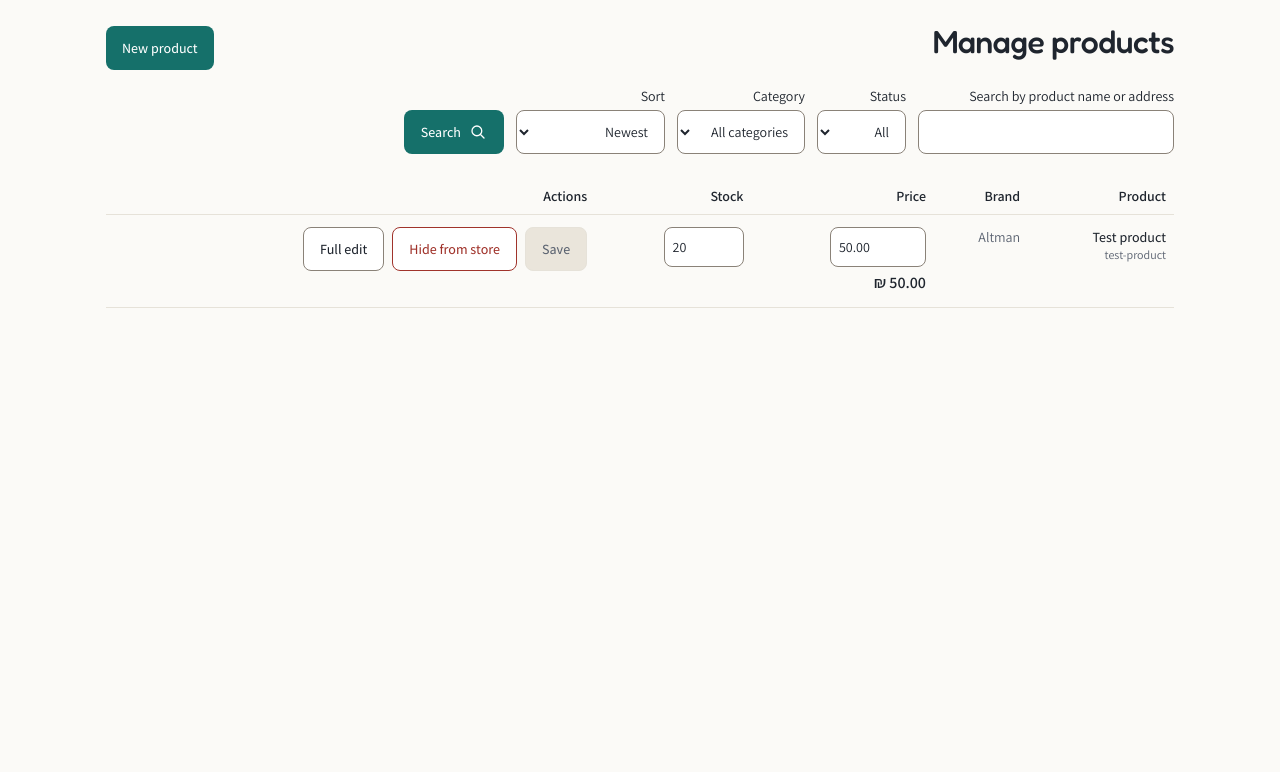
Test: 🔴 ISSUE-153 — the full editor › opens from its disclosure, PATCHes ONLY the changed description, and closes state survives the save
Expected: the text "Test product" is shown, [1092,228,1166,246]
Click the button "Full edit".
click(344, 249)  # box [303,227,384,271]
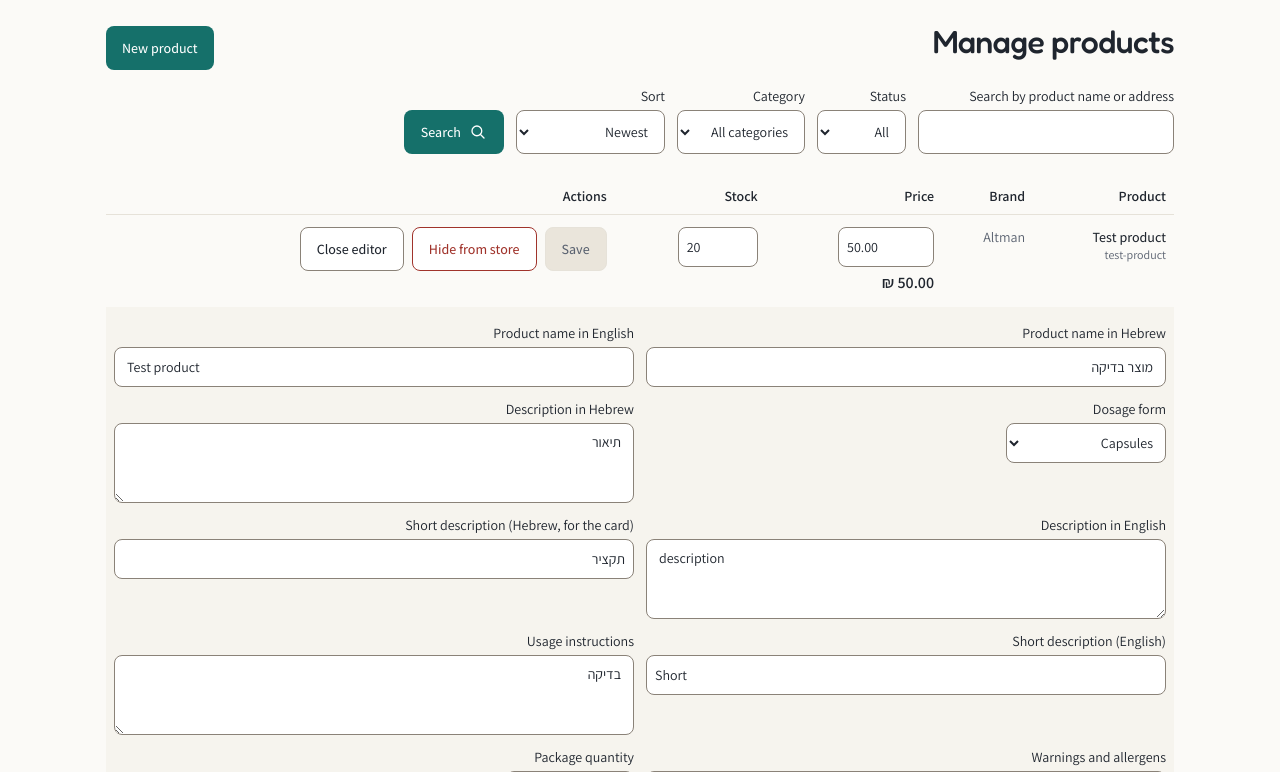
Now the button named "Full edit" is expanded, box [300,227,404,271]
Replace the text in the text box labelled "Description in Hebrew" with "תיאור חדש" at (374, 463), box [114,423,634,503]
(page scrolled)
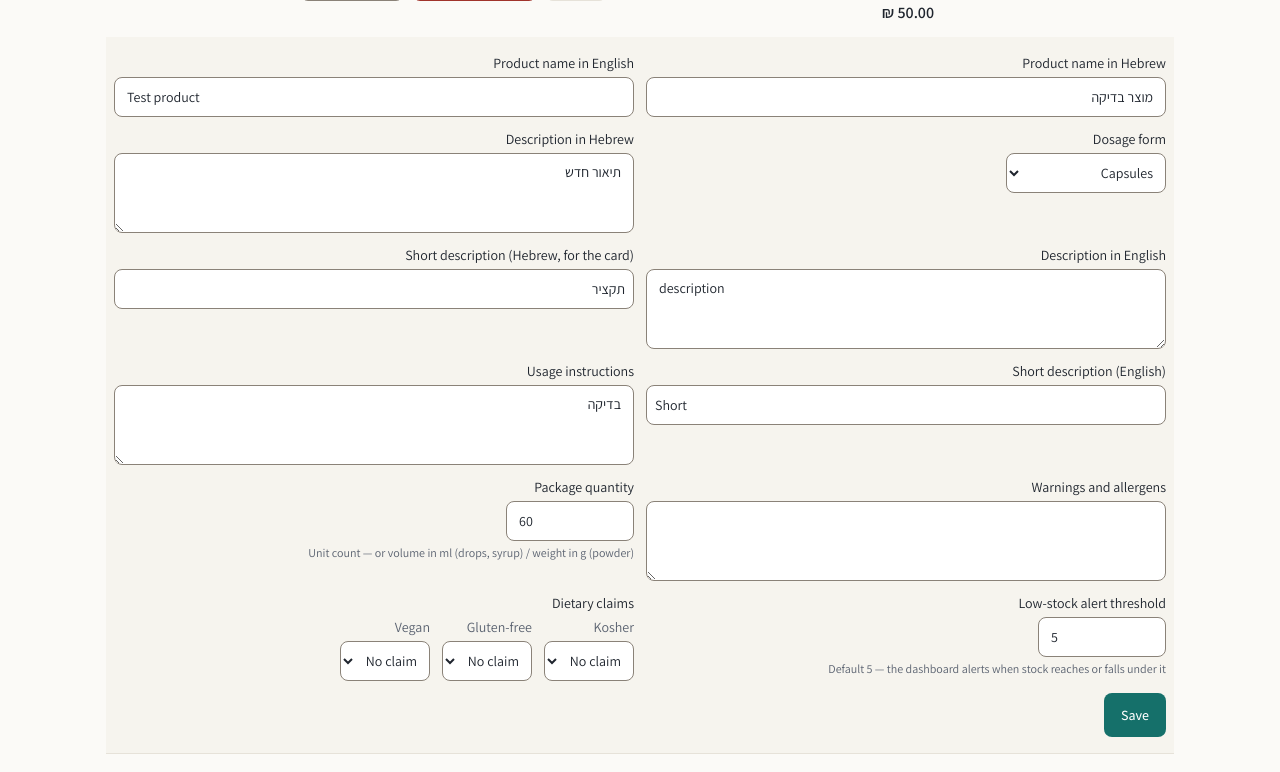
Click the button "Save" below "Low-stock alert threshold".
click(1135, 715)  # box [1104,693,1166,737]
(page scrolled)
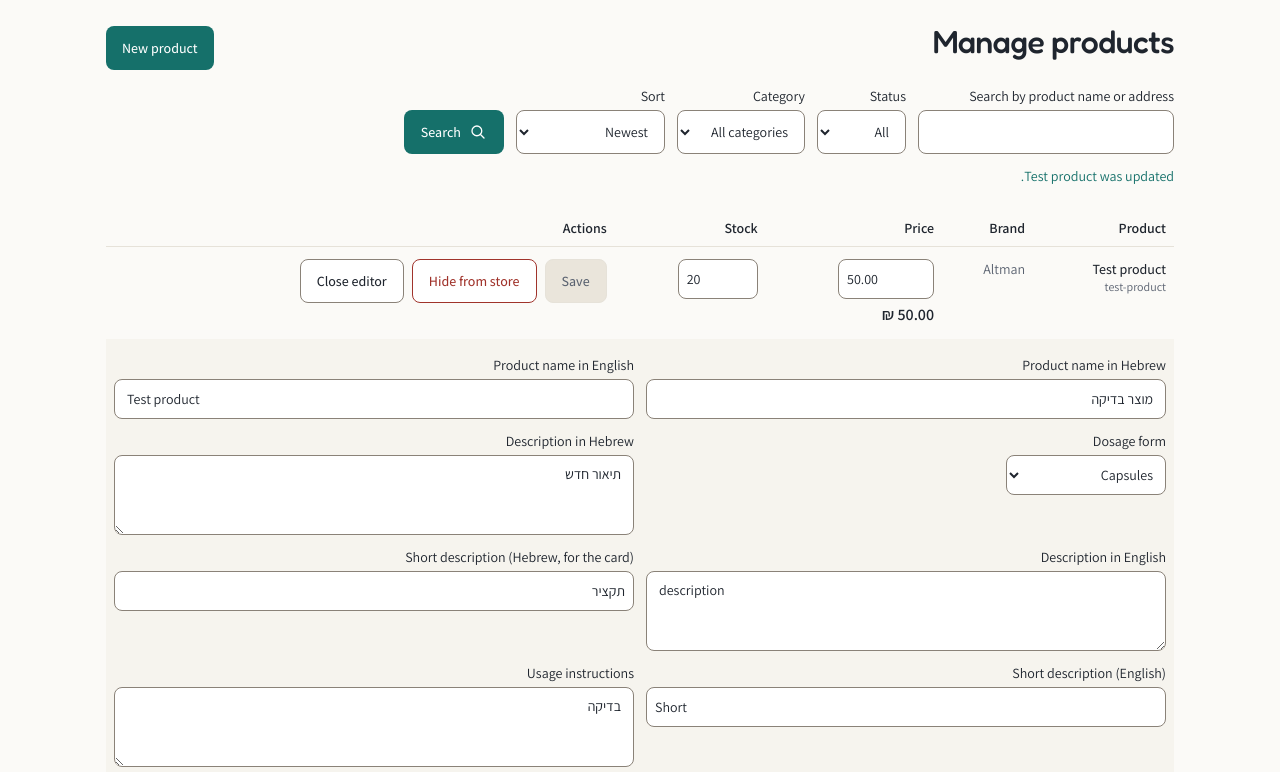
Now the button "Close editor" is shown, box [300,259,404,303]
Now the message shows "was updated", box [1021,167,1174,185]
